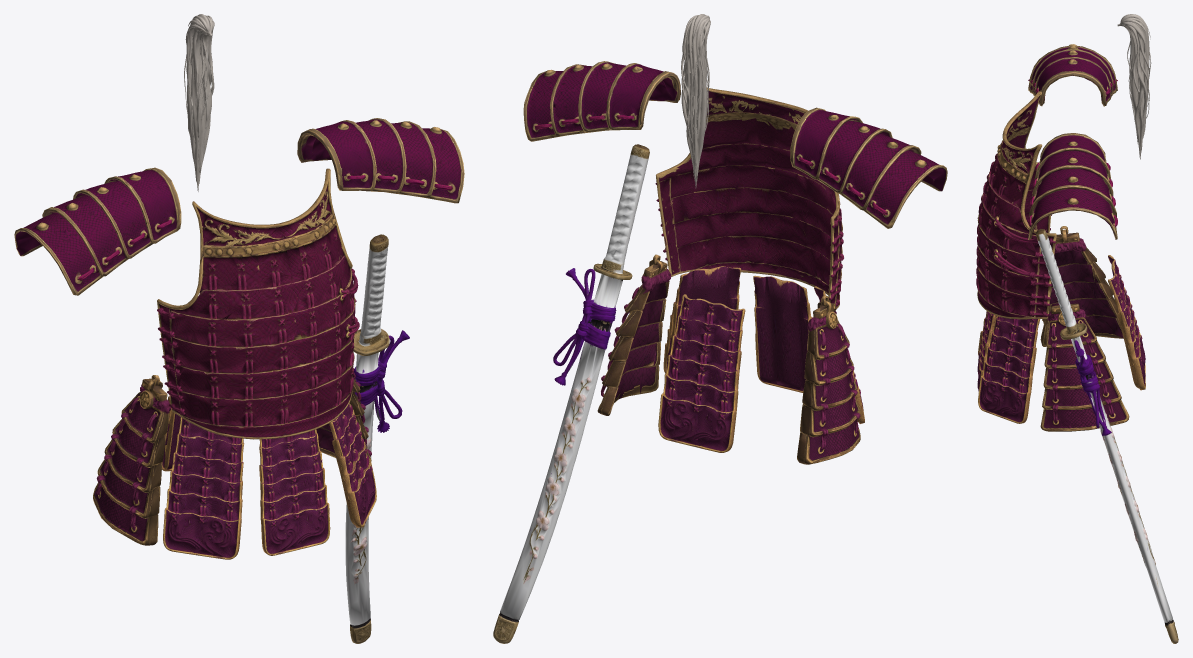
The model's file is fighter2_parts.glb.
3 renders of one model, left to right at view 1: azimuth 30°, elevation 25°; view 2: azimuth 150°, elevation 25°; view 3: azimuth 270°, elevation 25°, orthographic. The views are drawn at different scales.
Visible parts, largest first — view 1: P__Spine2__Breastplate, P__RightArm__ArmGuard_R, P__LeftArm__ArmGuard_L, P__Hips__SkirtPanel_003, P__Hips__Tasset_R, P__Hips__Katana, P__Hips__SkirtPanel, P__Head__Ponytail, P__Hips__SkirtPanel_001, P__Hips__Tasset_L, P__Hips__SkirtPanel_002; view 2: P__Spine2__Breastplate, P__Hips__Katana, P__Hips__SkirtPanel_002, P__RightArm__ArmGuard_R, P__LeftArm__ArmGuard_L, P__Hips__Tasset_R, P__Hips__Tasset_L, P__Hips__SkirtPanel, P__Head__Ponytail, P__Hips__SkirtPanel_001; view 3: P__Spine2__Breastplate, P__Hips__Tasset_L, P__LeftArm__ArmGuard_L, P__Hips__Katana, P__Hips__SkirtPanel_001, P__Hips__Tasset_R, P__RightArm__ArmGuard_R, P__Head__Ponytail, P__Hips__SkirtPanel_002, P__Hips__SkirtPanel.
Boxes of the visible parts, x1,y1,x2,y2 form: P__Spine2__Breastplate: (157,168,359,439); P__RightArm__ArmGuard_R: (14,167,181,295); P__LeftArm__ArmGuard_L: (297,118,464,203); P__Hips__SkirtPanel_003: (163,417,244,559); P__Hips__Tasset_R: (93,375,170,545); P__Hips__Katana: (345,234,409,643); P__Hips__SkirtPanel: (259,429,330,555); P__Head__Ponytail: (184,14,214,191); P__Hips__SkirtPanel_001: (329,403,376,527); P__Hips__Tasset_L: (316,372,371,461); P__Hips__SkirtPanel_002: (161,396,180,471); P__Spine2__Breastplate: (655,87,843,308); P__Hips__Katana: (493,144,649,643); P__Hips__SkirtPanel_002: (658,294,745,452); P__RightArm__ArmGuard_R: (790,107,947,228); P__LeftArm__ArmGuard_L: (523,61,680,141); P__Hips__Tasset_R: (797,295,860,464); P__Hips__Tasset_L: (597,254,671,415); P__Hips__SkirtPanel: (753,275,812,392); P__Head__Ponytail: (681,14,710,188); P__Hips__SkirtPanel_001: (663,266,741,373); P__Spine2__Breastplate: (976,91,1056,319); P__Hips__Tasset_L: (1040,303,1129,431); P__LeftArm__ArmGuard_L: (1028,133,1117,239); P__Hips__Katana: (1035,228,1178,643); P__Hips__SkirtPanel_001: (978,316,1040,423); P__Hips__Tasset_R: (1040,226,1123,346); P__RightArm__ArmGuard_R: (1028,44,1117,106); P__Head__Ponytail: (1117,14,1151,159); P__Hips__SkirtPanel_002: (1108,255,1145,390); P__Hips__SkirtPanel: (977,311,995,392).
Size of the model in its own units: 1.2 by 1.9 by 0.6268.
8 materials, 8 textured.
